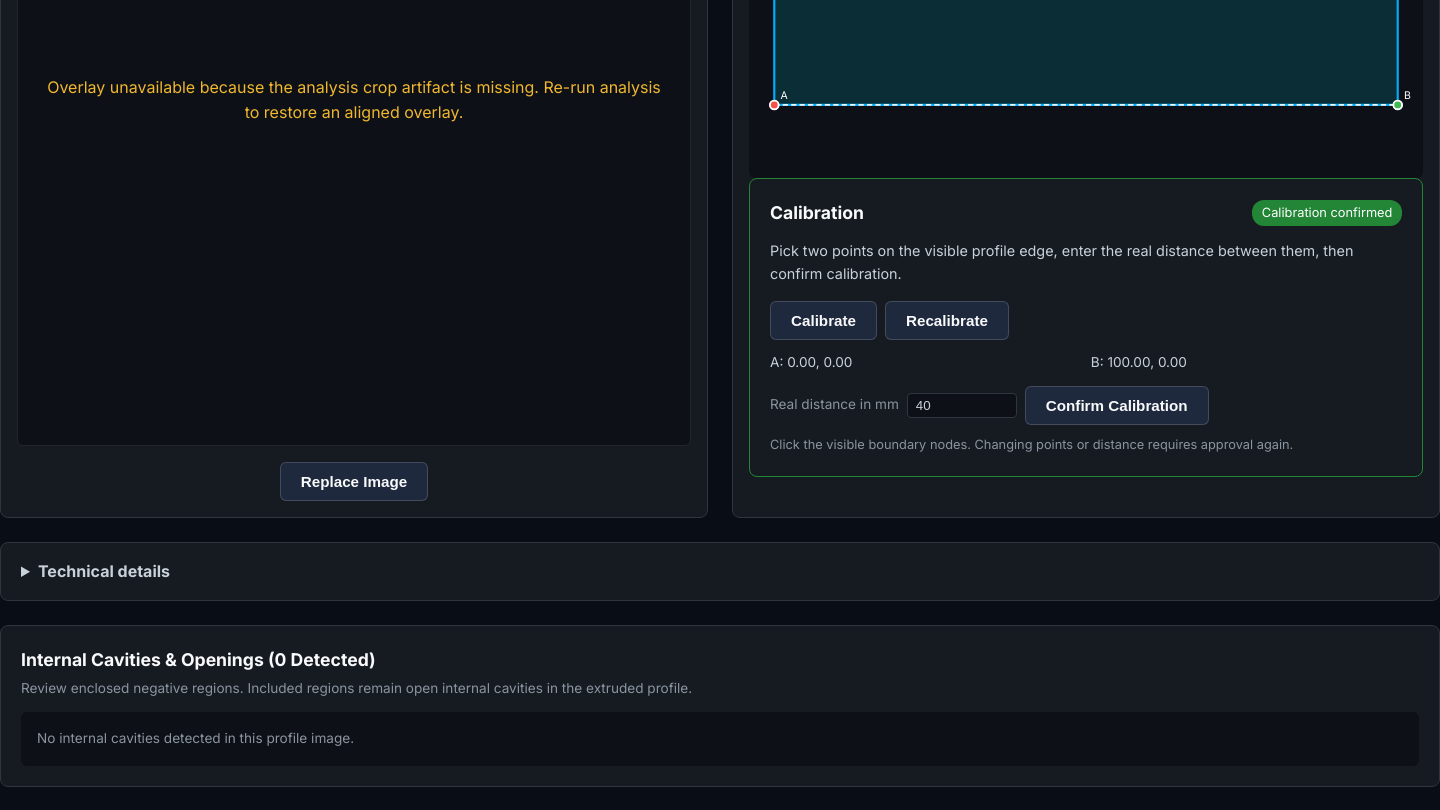
Test: ProfileReviewPage Component › hydrates markers after refresh and invalidates on real distance edit
(page scrolled)
Check: the text "A: 0.00, 0.00" is shown, box [770,354,852,370]
Check: the text "B: 100.00, 0.00" is shown, box [1091,354,1187,370]
Replace the text in the number field labelled "Real distance in mm" with "50": (962, 405) [907,393,1017,418]
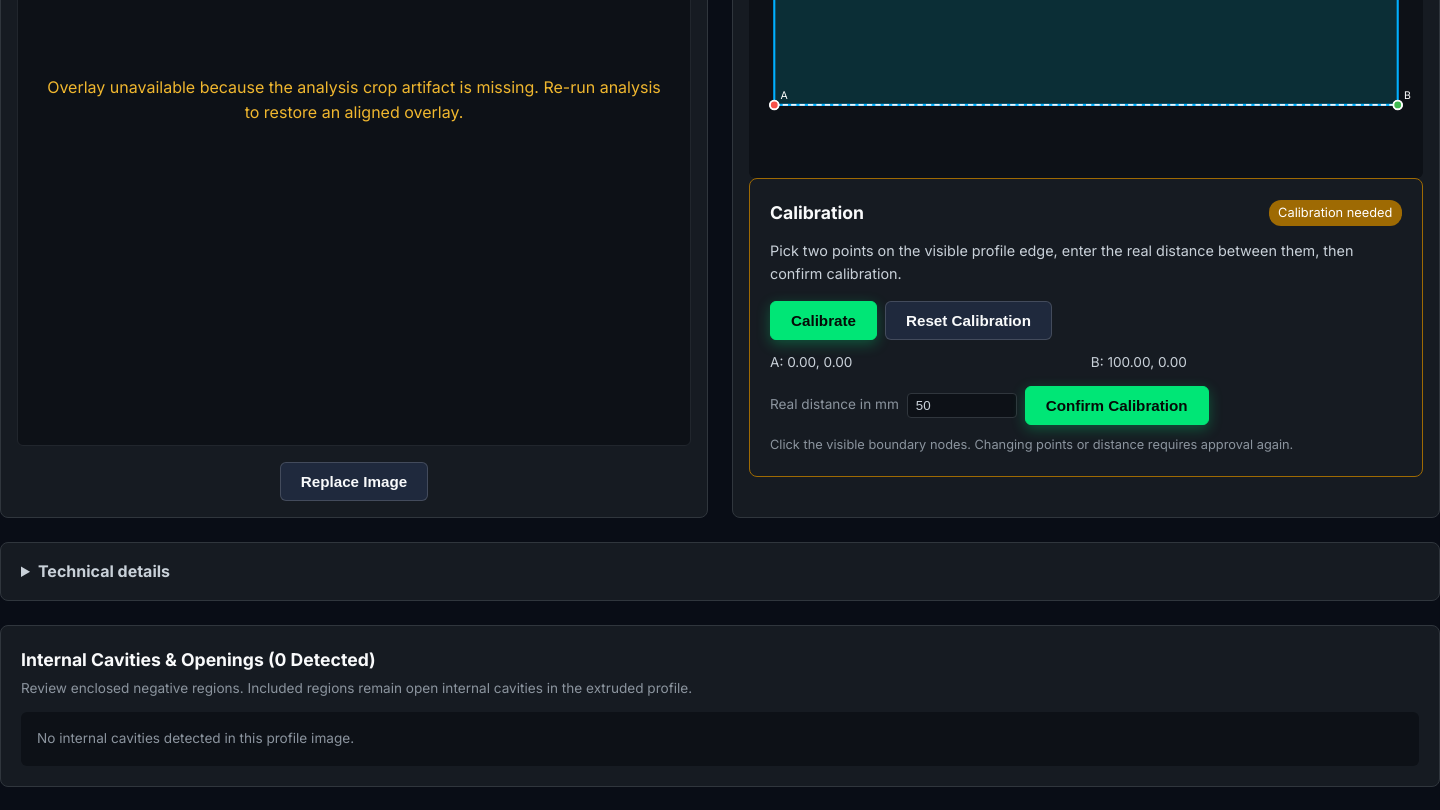
Check: the text "Calibration needed" is shown, box [1268,200,1402,226]
